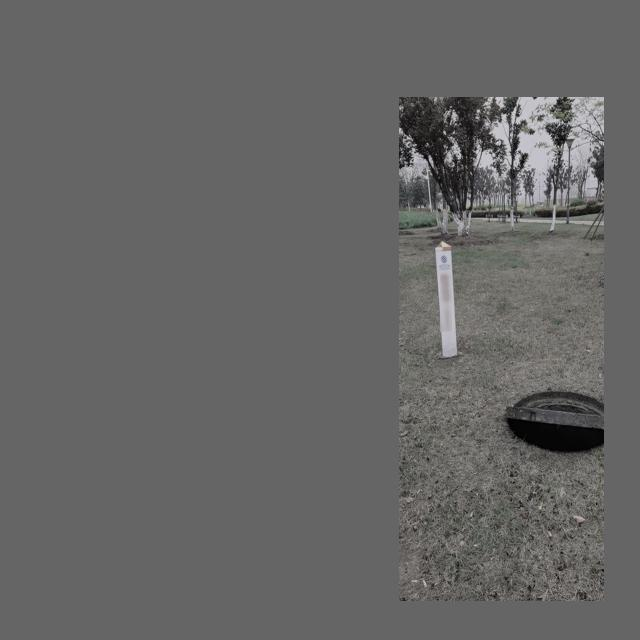uncovered: (507, 390, 604, 453)
